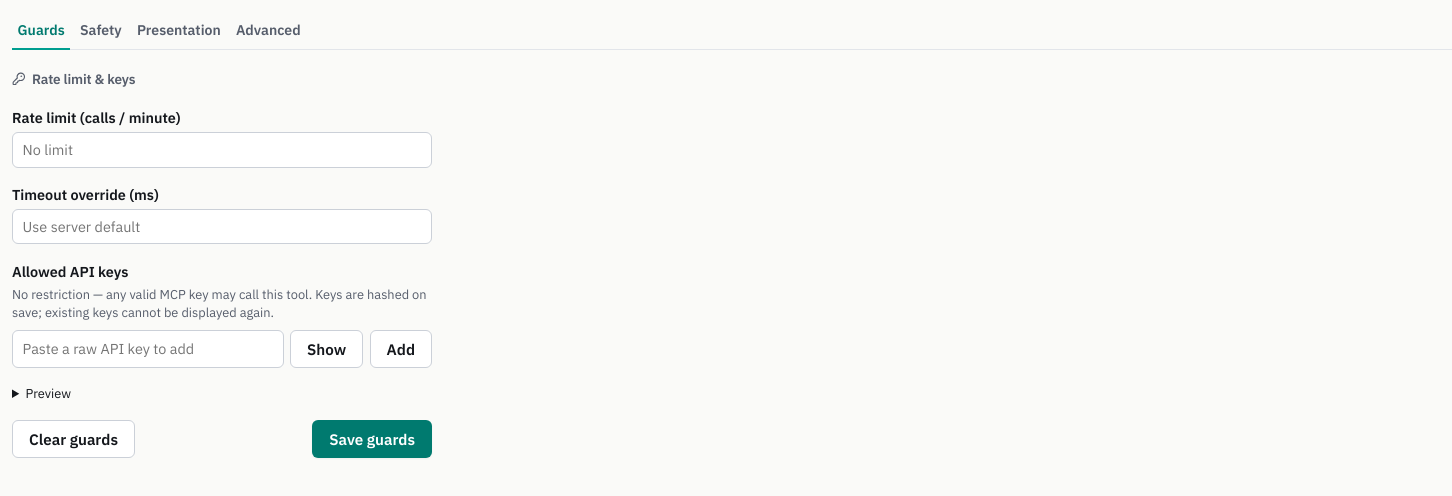
Test: GuardEditor › re-enables Save once an invalid rate limit is corrected to a positive number
The width and height of the screenshot is (1452, 496).
In the field with id "rate-limit": (222, 150) left=12, top=132, right=432, bottom=168, type "0"
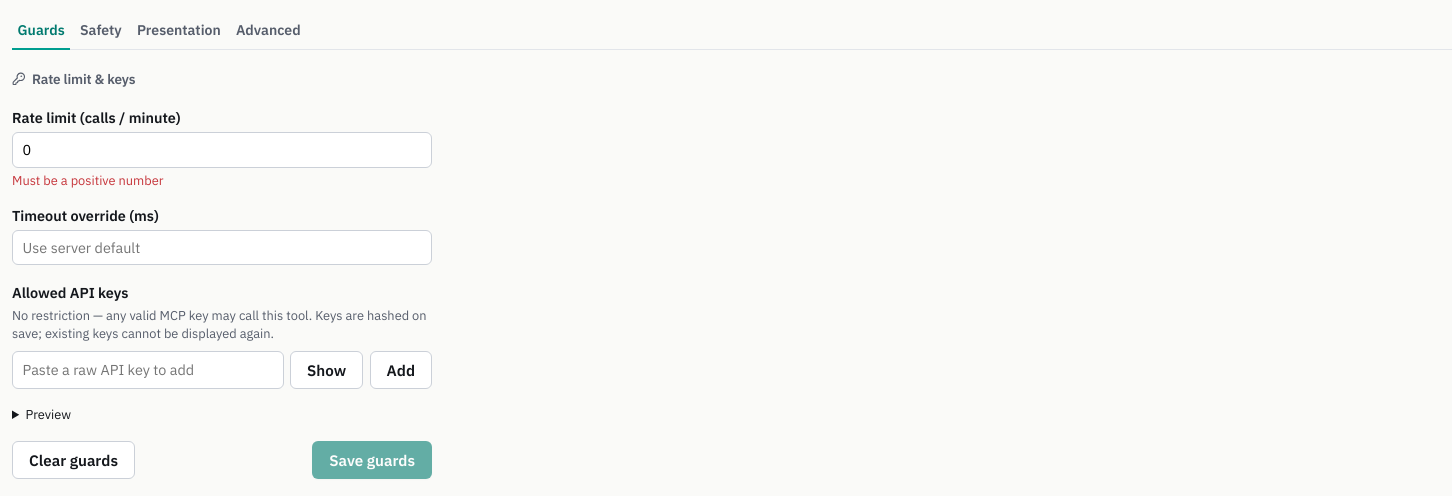
Expected: the submit button is disabled, left=312, top=441, right=432, bottom=479
Replace the text in the field with id "rate-limit" with "60": (222, 150) left=12, top=132, right=432, bottom=168
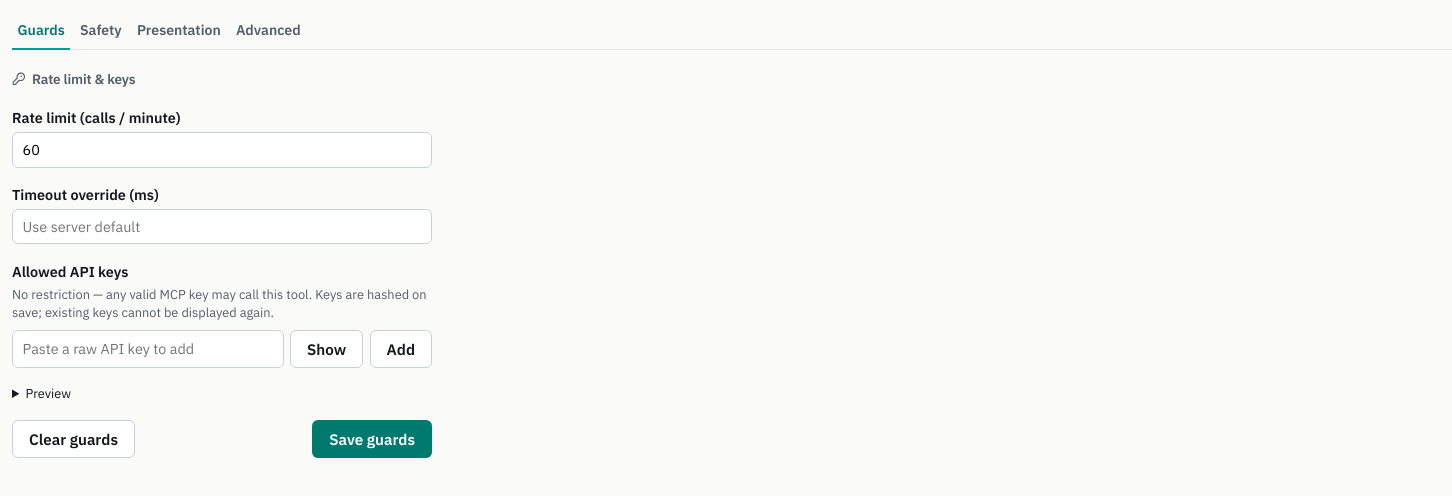
Expected: the submit button is enabled, left=312, top=420, right=432, bottom=458
